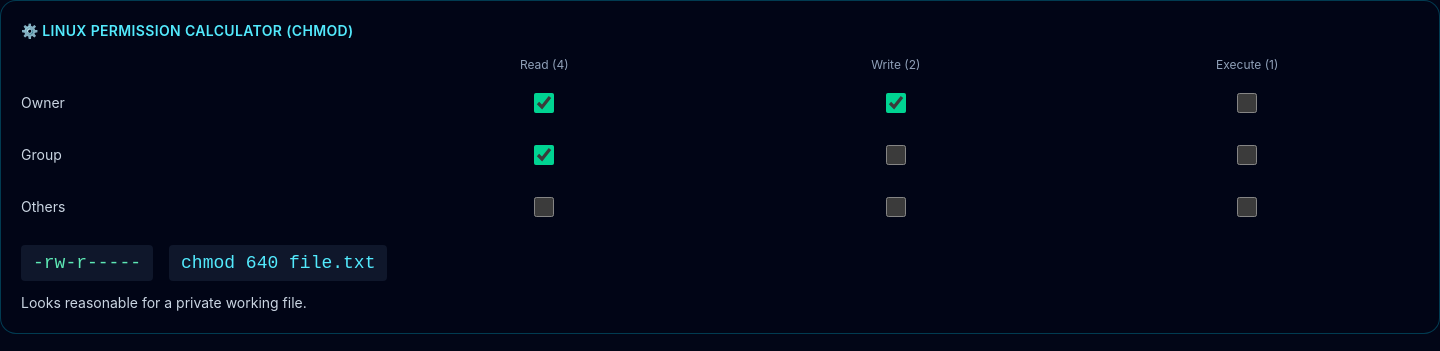
Scenario: PermTool › still warns about world-writable files
Click the checkbox named "Owner – Execute (1)" at (1247, 103), box [1237,93,1257,113]
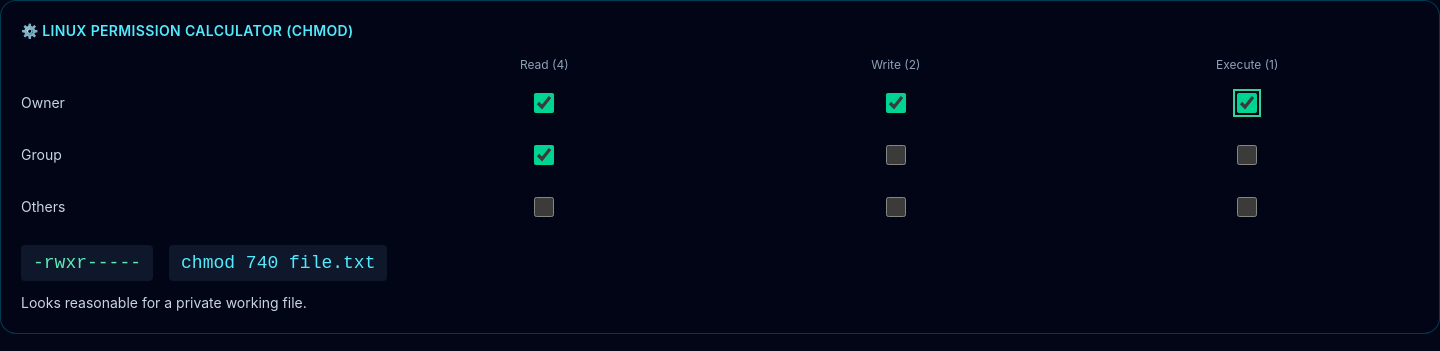
Click the checkbox named "Group – Write (2)" at (896, 155), box [886,145,906,165]
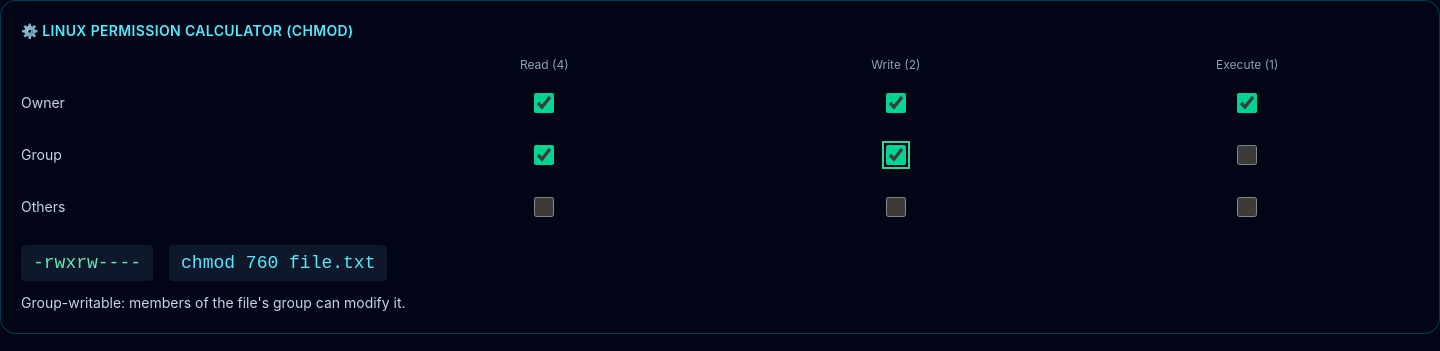
Click the checkbox named "Group – Execute (1)" at (1247, 155), box [1237,145,1257,165]
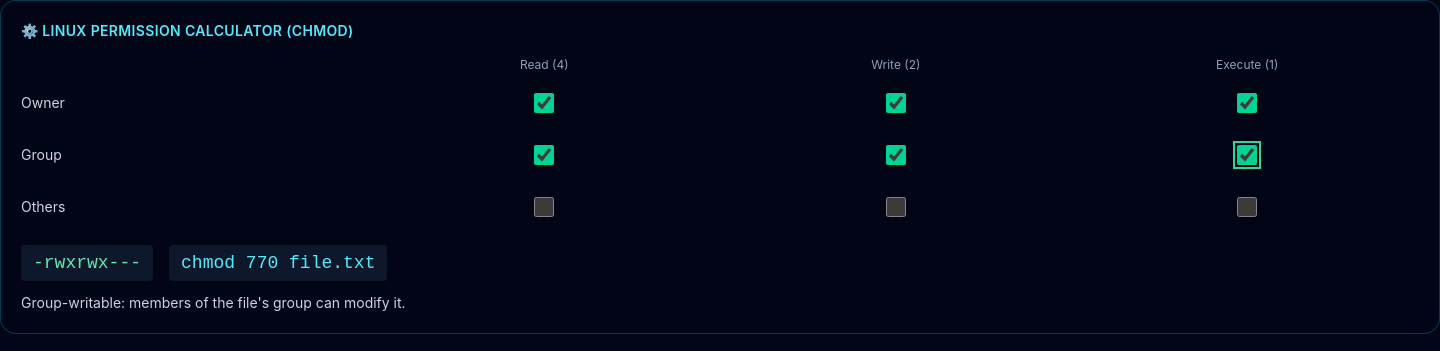
Click the checkbox named "Others – Read (4)" at (544, 207), box [534,197,554,217]
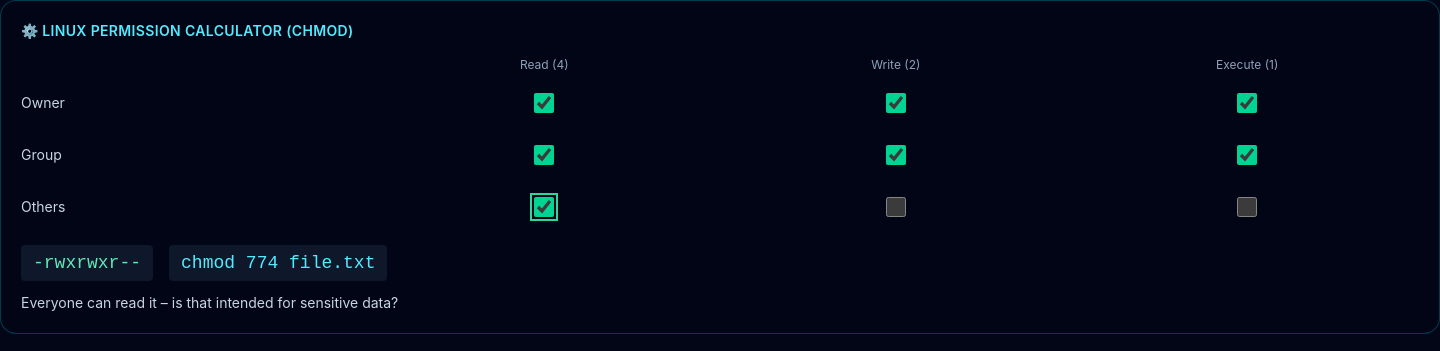
Click the checkbox named "Others – Write (2)" at (896, 207), box [886,197,906,217]
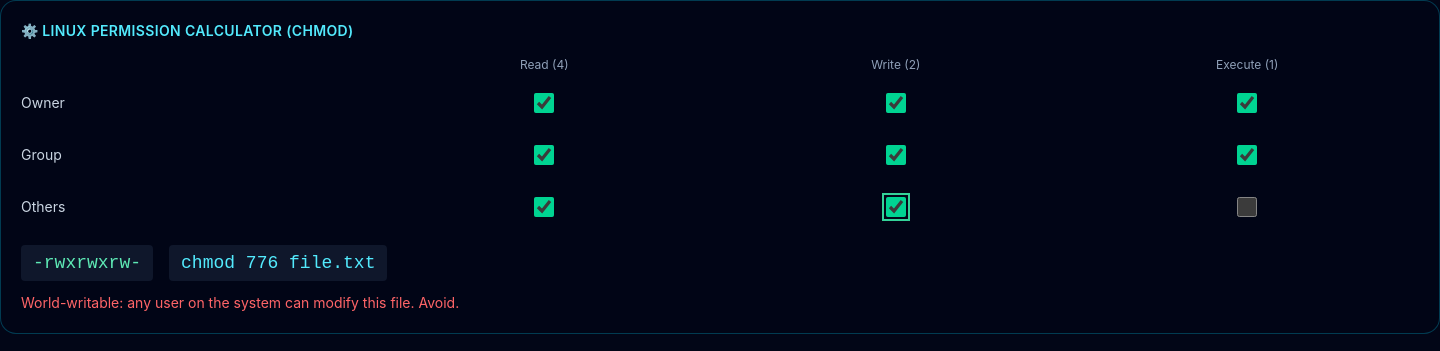
Click the checkbox named "Others – Execute (1)" at (1247, 207), box [1237,197,1257,217]
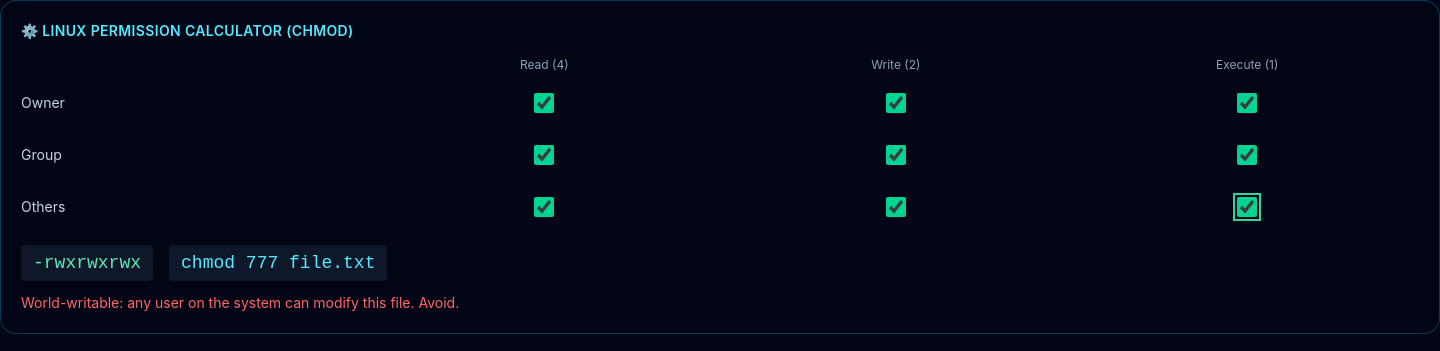
Check: the text "World-writable" is shown, box [21,294,459,311]
Check: the text "chmod 777 file.txt" is shown, box [169,245,387,281]
